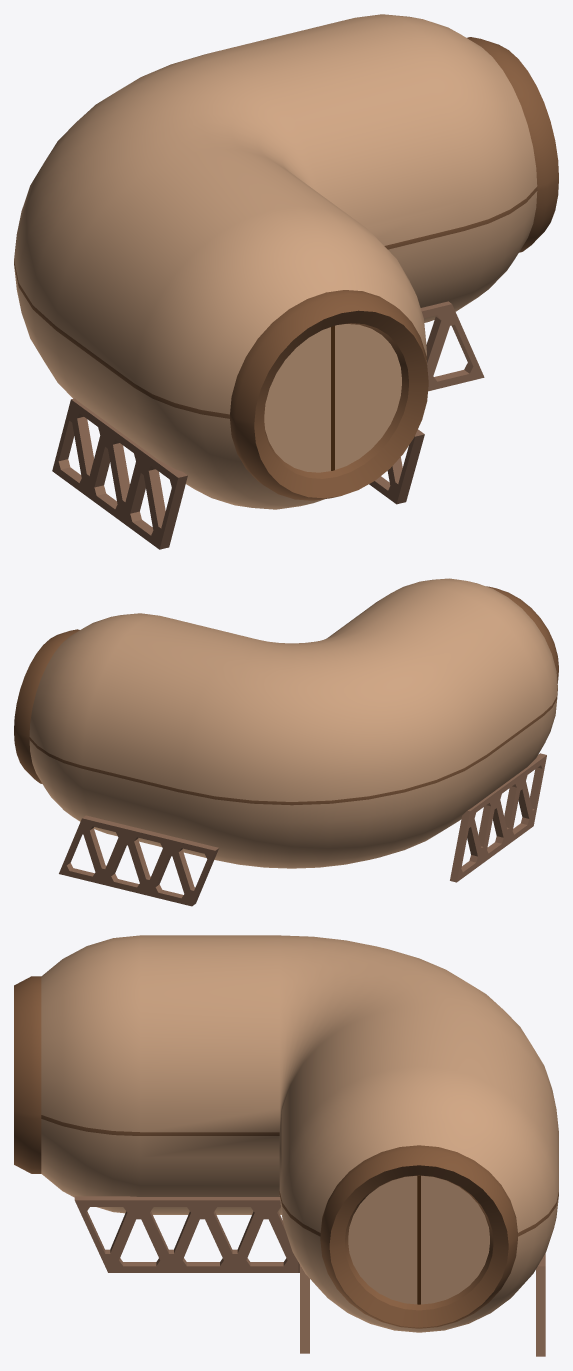
File: quaternius-ultimate-space-pack-building-l-transformed.glb
The picture shows the model from 3 angles, top to bottom: view 1: azimuth 30°, elevation 25°; view 2: azimuth 150°, elevation 25°; view 3: azimuth 270°, elevation 25°; orthographic projection. The views are drawn at different scales.
Parts seen in each view (by area): view 1: Building_L; view 2: Building_L; view 3: Building_L.
Part boxes in pixels (x1,y1,x2,y2): Building_L: [14, 14, 558, 549]; Building_L: [14, 578, 558, 906]; Building_L: [14, 935, 558, 1356].
Bounding box in the file's own units: 7.8 × 4.31 × 7.79.
Materials: 1 (1 with a texture image).
